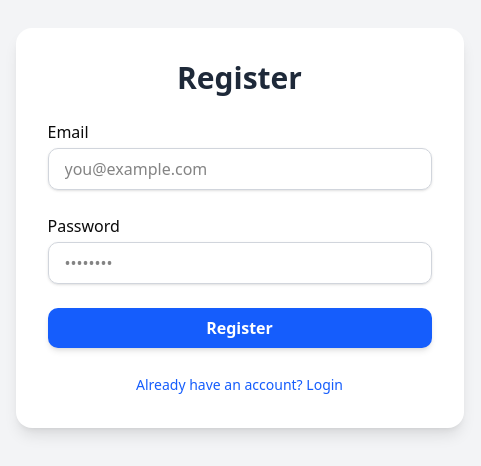
Register - Email and Password Validation (Formik + Yup) › Password Validation › should show error when password missing number
In the field named "email": coordinates (240, 169) [48,148,432,190], type "aaaa@gmail.com"
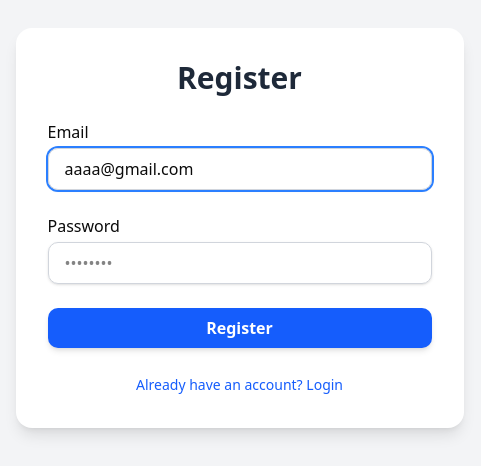
In the password field named "password": coordinates (240, 263) [48,242,432,284], type "Aakfnaofknafop_"
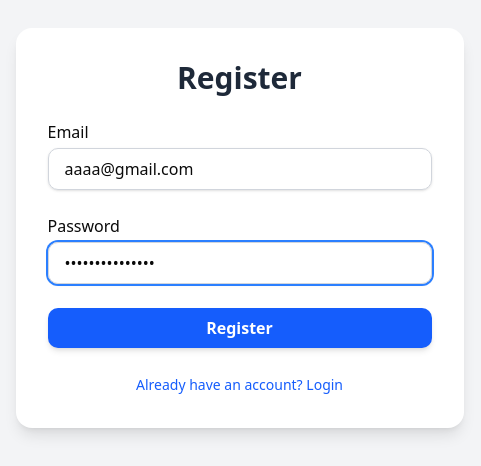
Click the submit button: coordinates (240, 328) [48,308,432,348]
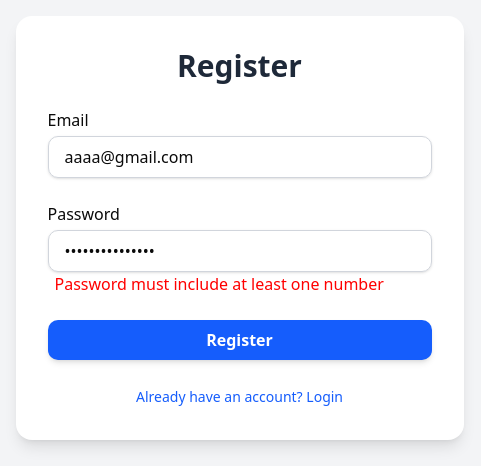
Result: the heading named "error-password" reads "Password must include at least one number" at [48,272,432,296]
